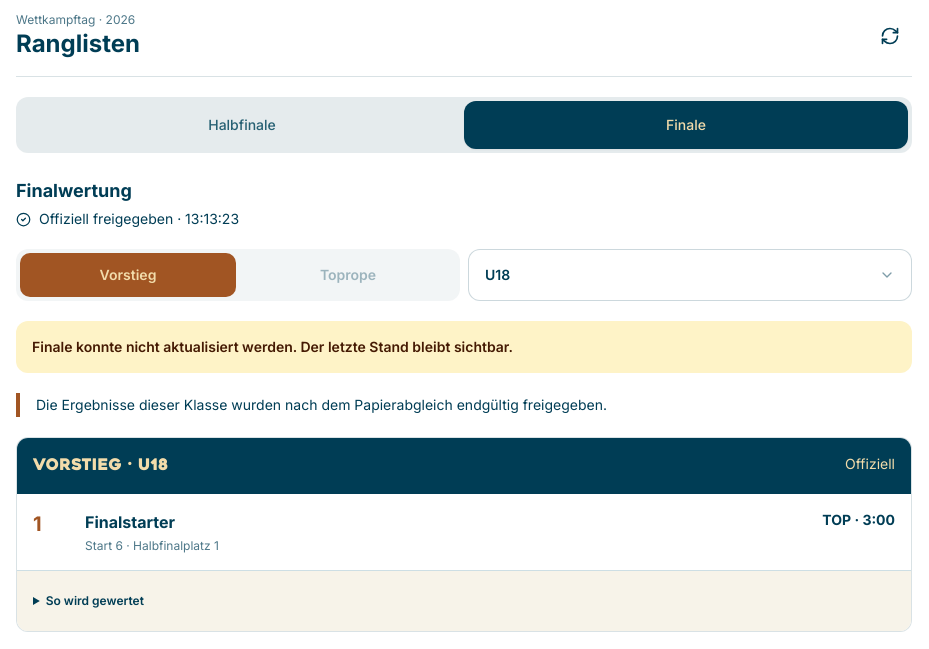
Test: competition standings › defaults to the released final and preserves its results if the next refresh fails
Expected: the text "Offiziell freigegeben" is shown, [39,210,173,227]
Expected: the text "Finalstarter" is shown, [85,512,175,532]
Step 1. Press the mouse on the tab "Halbfinale" → coordinates (242, 125), box [20,101,464,149]
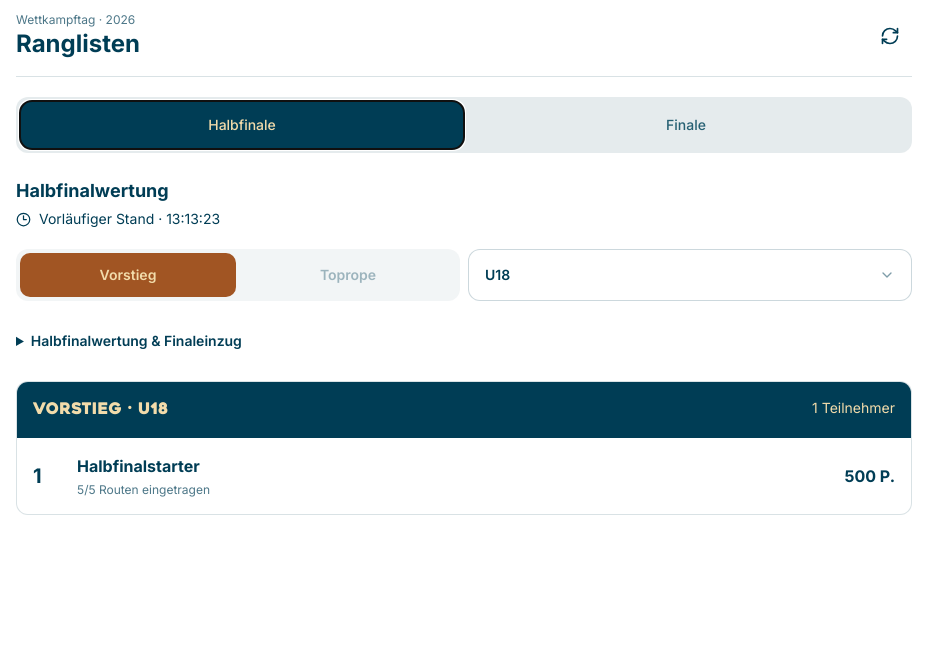
Expected: the text "Halbfinalstarter" is shown, [77,456,200,476]
